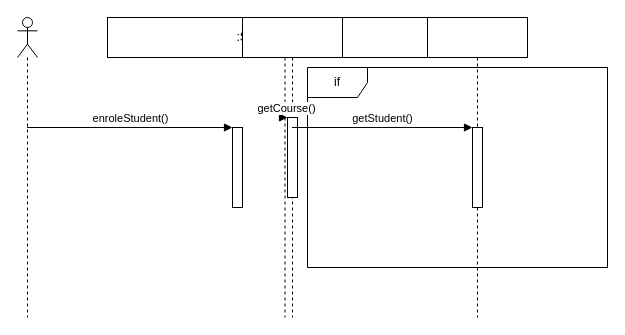
Image size: 625x335. Some labels were removed from this diagram. Here are the shapes that lost their labels. From the top down, the centre of each, then its label:
At point 292,167: ":Group".
At point 477,167: ":Student".
